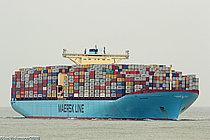Ship: (7, 39, 203, 122)
